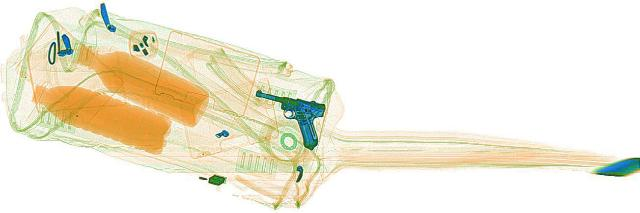Gun: (250, 87, 352, 150)
